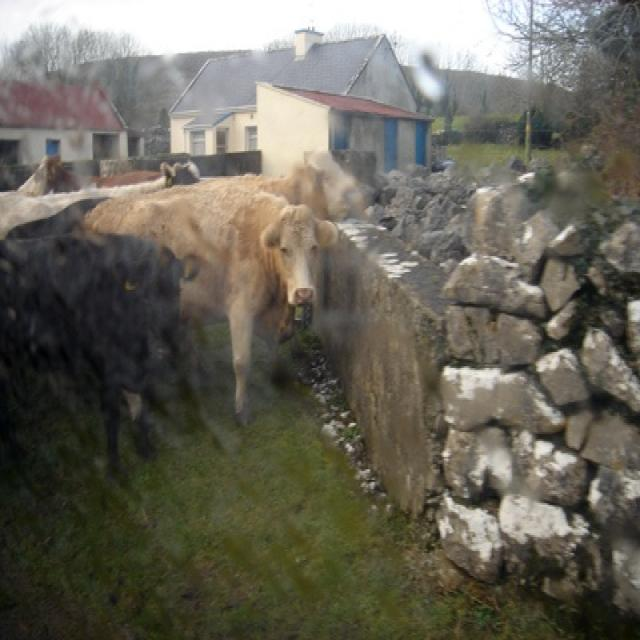cow: (80, 186, 337, 428), (2, 227, 201, 479)
